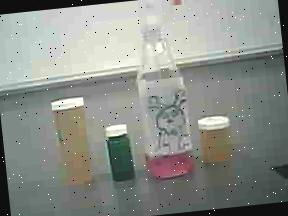Bottle A: (44, 88, 102, 192)
Bottle B: (193, 103, 239, 168)
Bottle C: (100, 118, 141, 190)
hazard: (125, 0, 202, 187)
